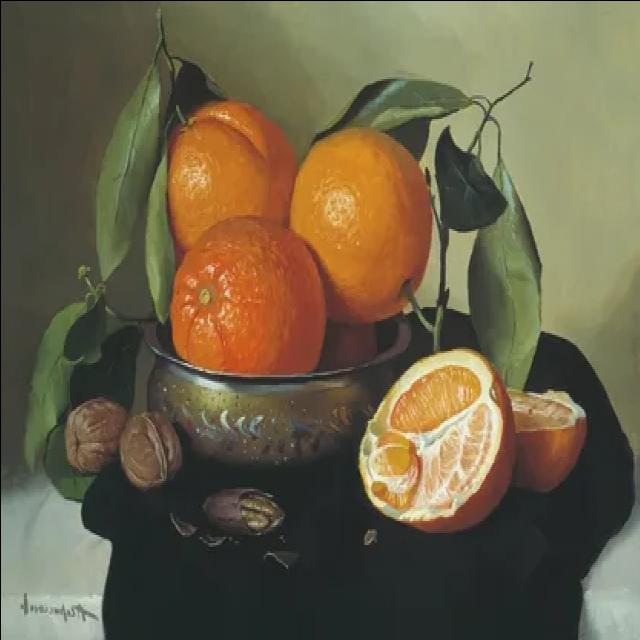orange: (165, 209, 326, 390)
